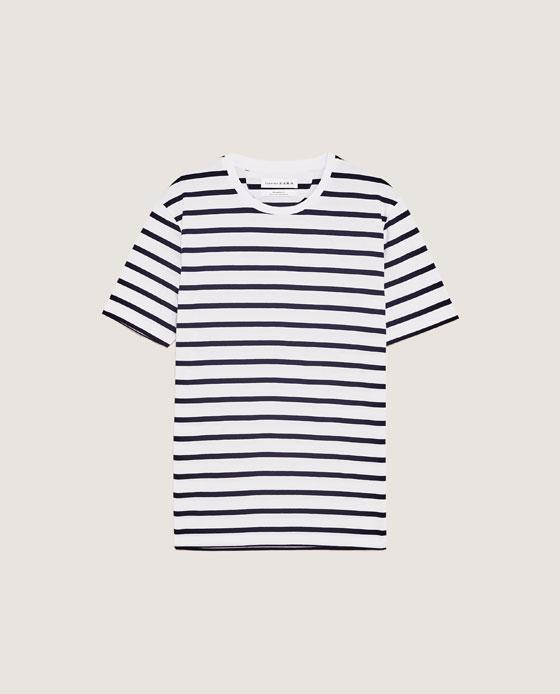teeshirt: (115, 149, 479, 572)
